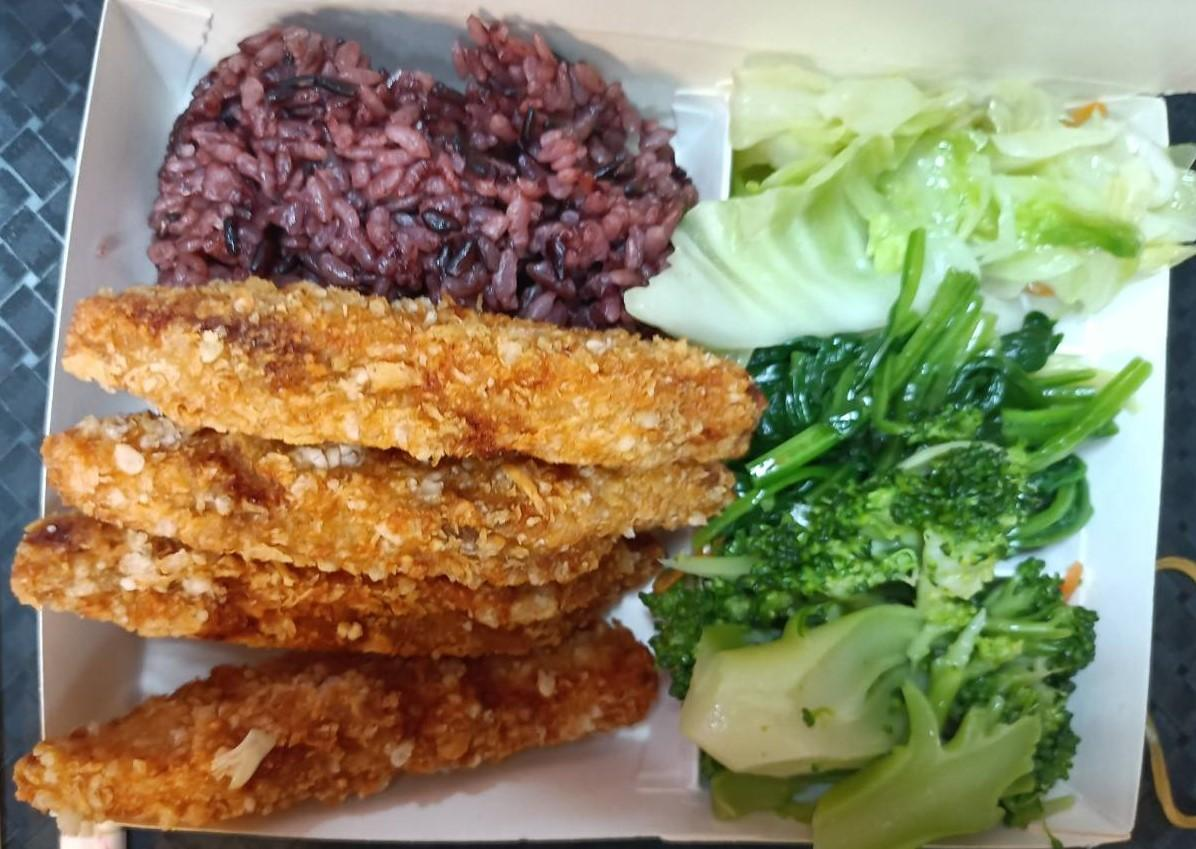big grilled chicken leg: (2, 0, 1196, 849)
braised fish: (130, 24, 699, 330)
braised fish fillet: (653, 450, 1102, 845), (649, 82, 1166, 346), (733, 306, 1151, 455)
braised pork: (8, 272, 762, 840)
